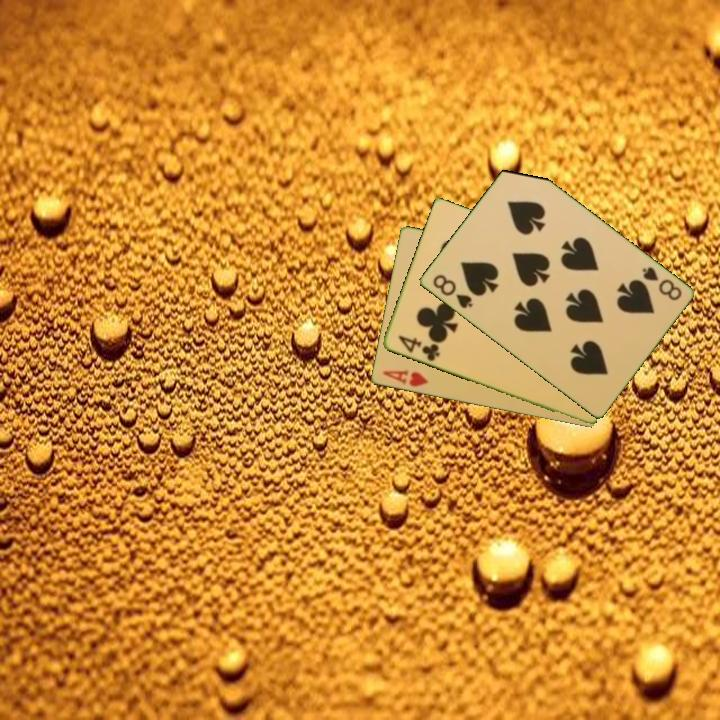4c: (395, 332, 442, 364)
8s: (638, 263, 685, 304), (429, 271, 475, 312)
Ah: (379, 366, 431, 390)
